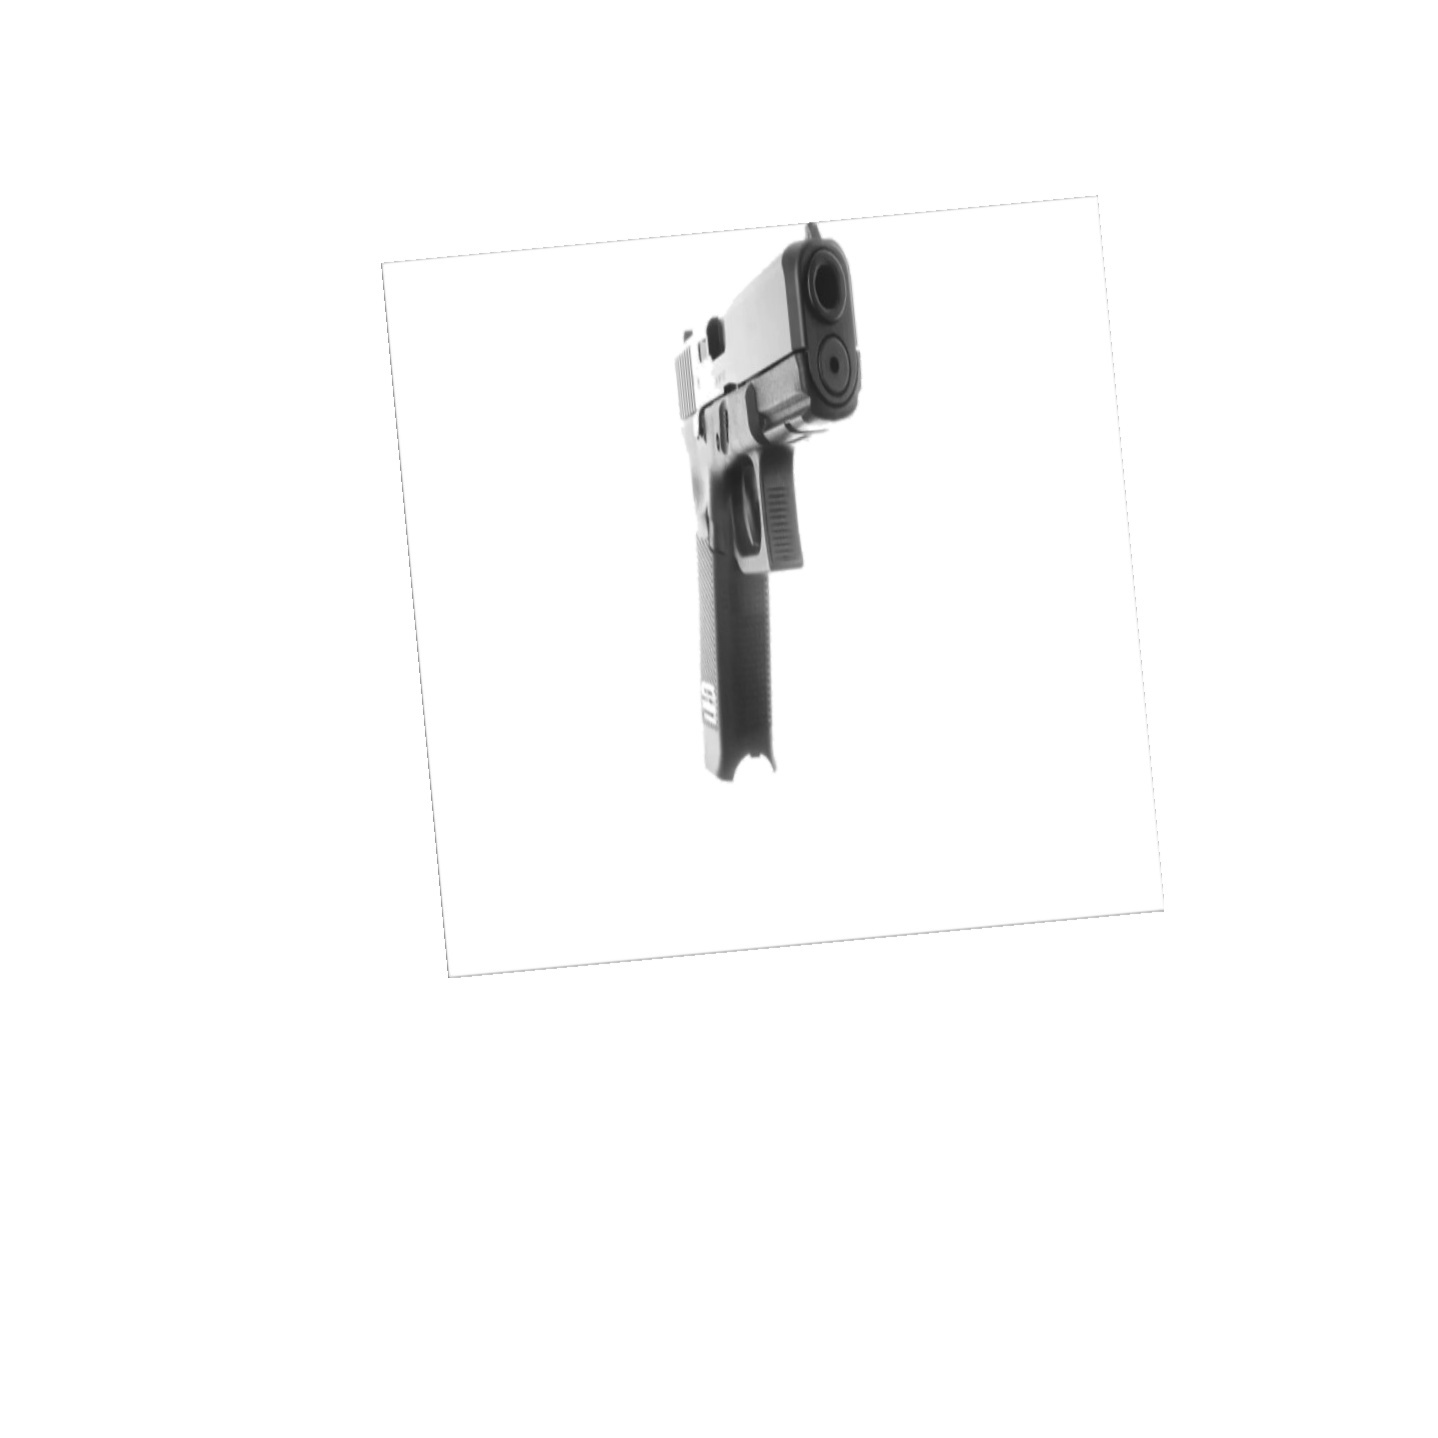gun: (651, 216, 876, 786)
